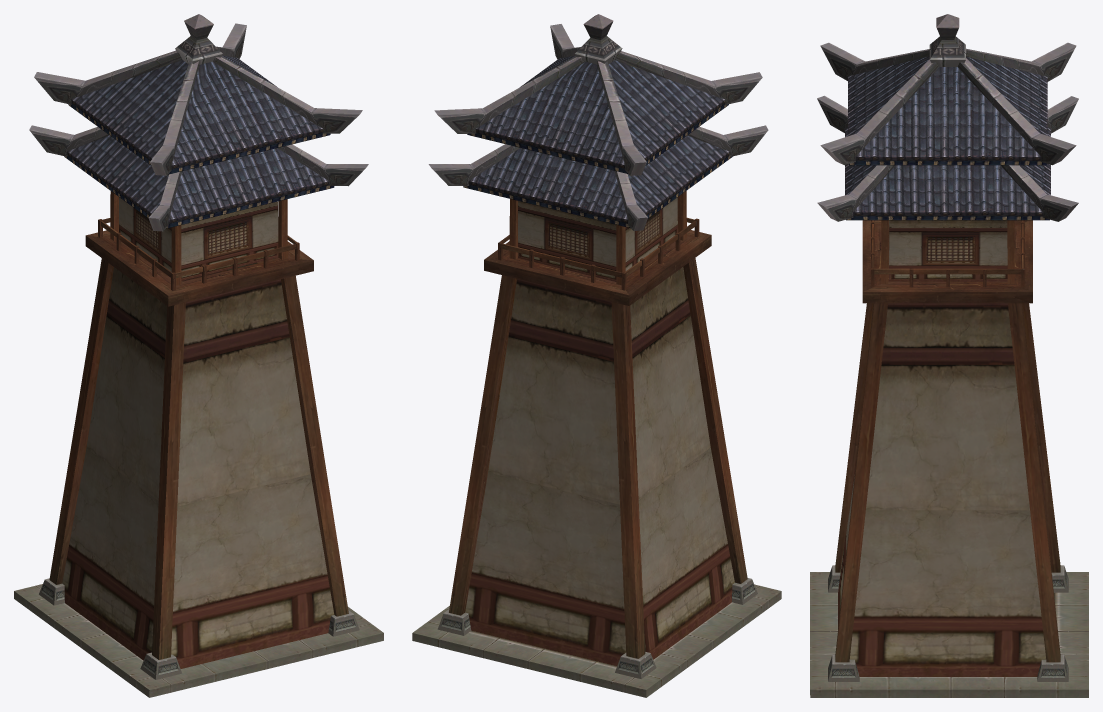
Rendered from s7_new_3d_chengchi_talou001.FBX.
3 views of the same model, side by side, from view 1: azimuth 30°, elevation 25°; view 2: azimuth 150°, elevation 25°; view 3: azimuth 270°, elevation 25° (orthographic). The views are drawn at different scales.
Visible parts, largest first — view 1: s7_3d_xrjm_talou01, s7_3d_xrjm_wuding01; view 2: s7_3d_xrjm_talou01, s7_3d_xrjm_wuding01; view 3: s7_3d_xrjm_talou01, s7_3d_xrjm_wuding01.
Part boxes in pixels (x1,y1,x2,y2): s7_3d_xrjm_talou01: (14, 14, 383, 697); s7_3d_xrjm_wuding01: (64, 55, 334, 228); s7_3d_xrjm_talou01: (412, 14, 781, 697); s7_3d_xrjm_wuding01: (463, 56, 732, 228); s7_3d_xrjm_talou01: (810, 14, 1088, 697); s7_3d_xrjm_wuding01: (845, 56, 1050, 220).
Size of the model in its own units: 7.69 by 19.02 by 7.7.
